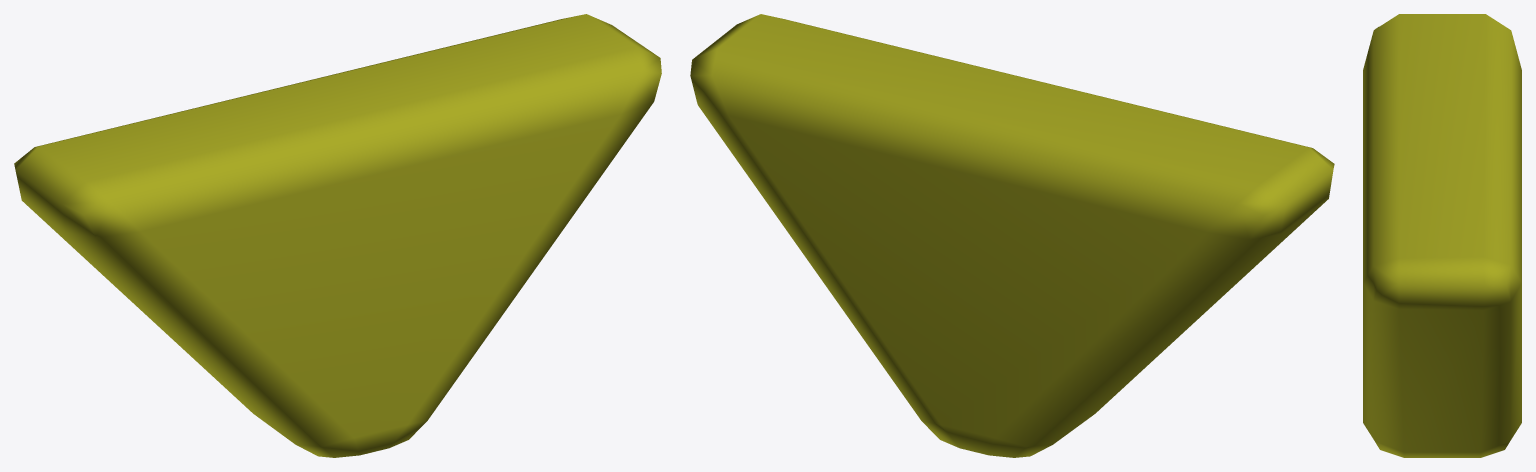
File: Anim_FloatingArrow.fbx
3 renders of one model, left to right at view 1: azimuth 30°, elevation 25°; view 2: azimuth 150°, elevation 25°; view 3: azimuth 270°, elevation 25°, orthographic. The views are drawn at different scales.
Parts seen in each view (by area): view 1: SK_FloatingArrow; view 2: SK_FloatingArrow; view 3: SK_FloatingArrow.
Part boxes in pixels (box(x1,y1,x2,y2)): SK_FloatingArrow: box(14, 14, 661, 457); SK_FloatingArrow: box(690, 14, 1334, 457); SK_FloatingArrow: box(1363, 14, 1521, 457).
Size of the model in its own units: 52.79 by 28.67 by 13.32.
